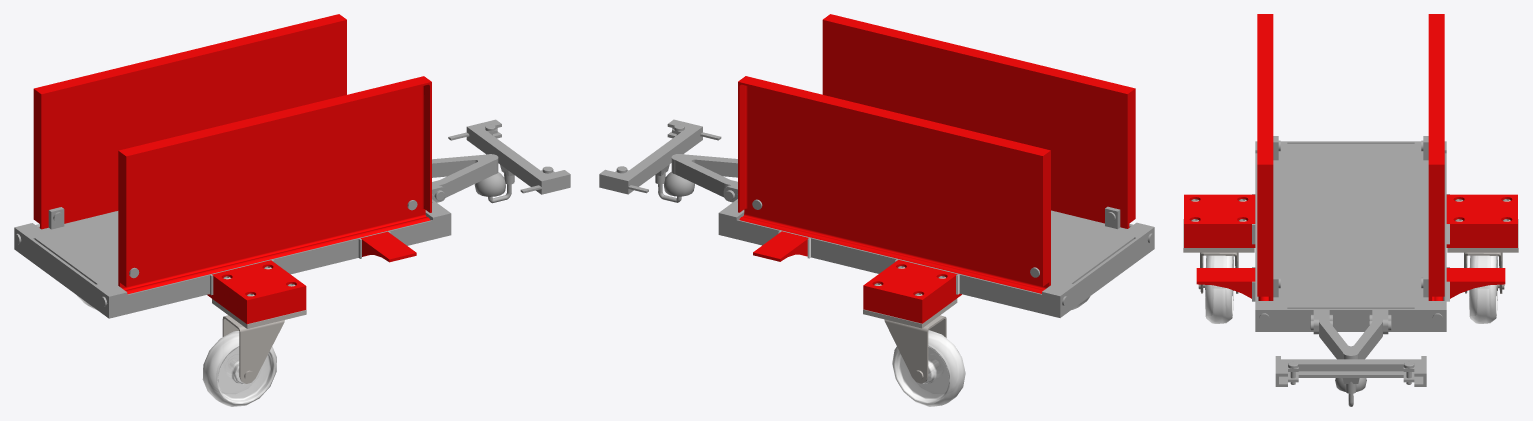
The model's file is trailerNEROcolored_Closed.obj.
The picture shows the model from 3 angles, left to right: view 1: azimuth 30°, elevation 25°; view 2: azimuth 150°, elevation 25°; view 3: azimuth 270°, elevation 25°; orthographic projection.
Visible parts, largest first — view 1: Solid1:18, Solid1:17, Solid1:12, Solid1:13, Solid1:4, Solid1:25, Solid1:1, Solid1:3, Solid1:16, Solid1, Solid1:2; view 2: Solid1:17, Solid1:18, Solid1:12, Solid1:14, Solid1:9, Solid1:25, Solid1:1, Solid1:8, Solid1:15, Solid1, Solid1:7; view 3: Solid1:12, Solid1:17, Solid1:18, Solid1:13, Solid1:14, Solid1:25, Solid1:1, Solid1:4, Solid1:9, Solid1:15, Solid1:16, Solid1:2 (+1 smaller).
Part boxes in pixels (x1,y1,x2,y2): Solid1:18: (118, 76, 431, 294); Solid1:17: (33, 14, 346, 229); Solid1:12: (14, 185, 451, 318); Solid1:13: (207, 260, 306, 324); Solid1:4: (202, 331, 276, 406); Solid1:25: (448, 119, 570, 194); Solid1:1: (432, 154, 498, 197); Solid1:3: (222, 315, 284, 383); Solid1:16: (361, 231, 416, 262); Solid1: (474, 172, 505, 196); Solid1:2: (212, 299, 306, 328); Solid1:17: (738, 76, 1050, 293); Solid1:18: (822, 14, 1135, 228); Solid1:12: (718, 185, 1154, 317); Solid1:14: (863, 259, 961, 323); Solid1:9: (892, 330, 965, 406); Solid1:25: (599, 119, 721, 194); Solid1:1: (671, 154, 737, 197); Solid1:8: (884, 315, 946, 383); Solid1:15: (753, 231, 808, 261); Solid1: (664, 172, 694, 196); Solid1:7: (863, 298, 957, 328); Solid1:12: (1252, 141, 1449, 334); Solid1:17: (1428, 14, 1444, 300); Solid1:18: (1257, 14, 1273, 300); Solid1:13: (1184, 194, 1255, 247); Solid1:14: (1446, 194, 1517, 247); Solid1:25: (1275, 356, 1426, 393); Solid1:1: (1319, 310, 1382, 359); Solid1:4: (1205, 255, 1233, 323); Solid1:9: (1469, 255, 1497, 323); Solid1:15: (1446, 268, 1505, 298); Solid1:16: (1196, 268, 1255, 298); Solid1:2: (1183, 219, 1254, 252).
Size of the model in its own units: 519 by 269 by 315.
